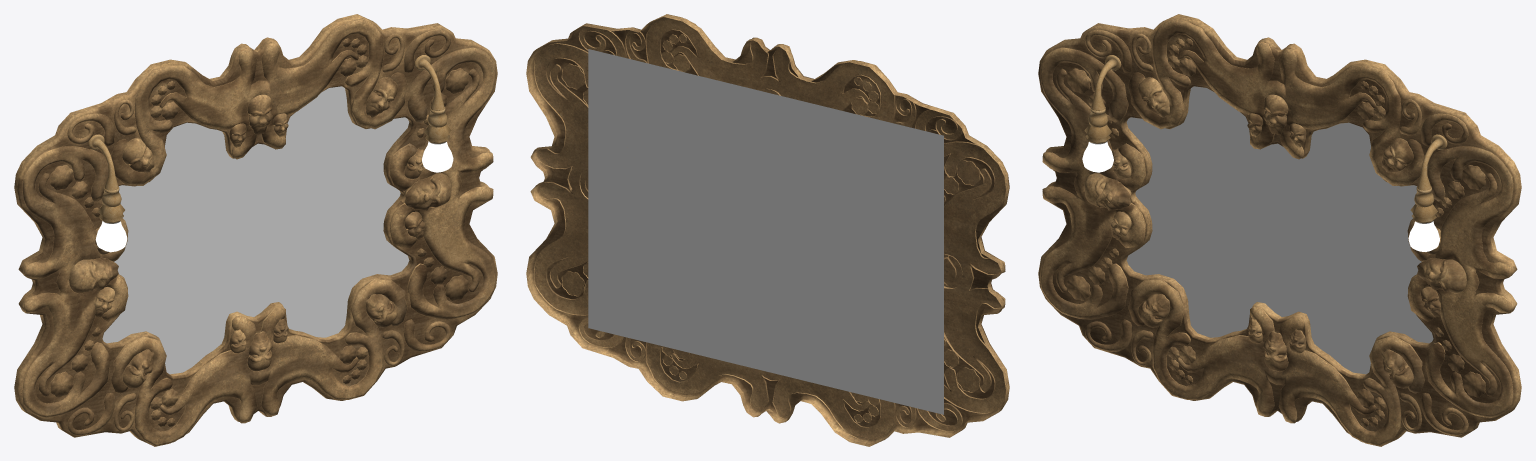
The model's file is obj_unseen_fancy_mirror_fb6743.glb.
3 renders of one model, left to right at view 1: azimuth 30°, elevation 25°; view 2: azimuth 150°, elevation 25°; view 3: azimuth 330°, elevation 25°, orthographic.
Parts seen in each view (by area): view 1: obj_unseen_fancy_mirror_fb6743; view 2: obj_unseen_fancy_mirror_fb6743; view 3: obj_unseen_fancy_mirror_fb6743.
Part boxes in pixels (x1,y1,x2,y2): obj_unseen_fancy_mirror_fb6743: (14, 14, 497, 446); obj_unseen_fancy_mirror_fb6743: (526, 14, 1009, 446); obj_unseen_fancy_mirror_fb6743: (1038, 14, 1521, 446).
Size of the model in its own units: 1.32 by 1 by 0.1362.
3 materials, 2 textured.
